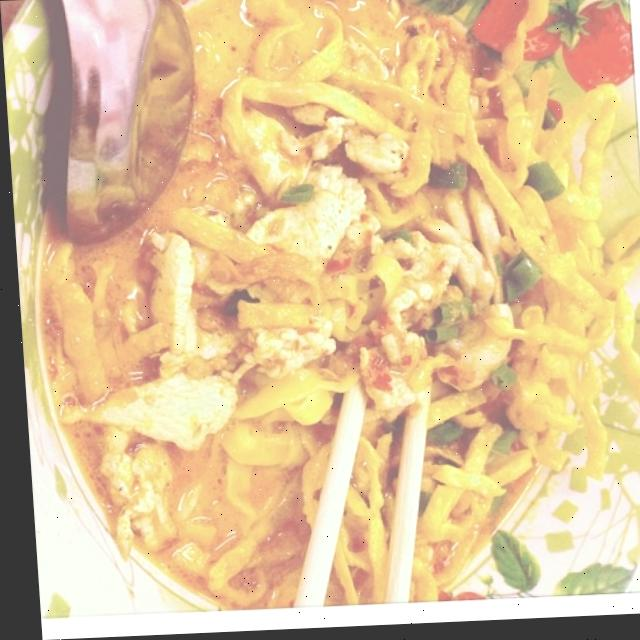面条主食: (11, 0, 635, 615)
